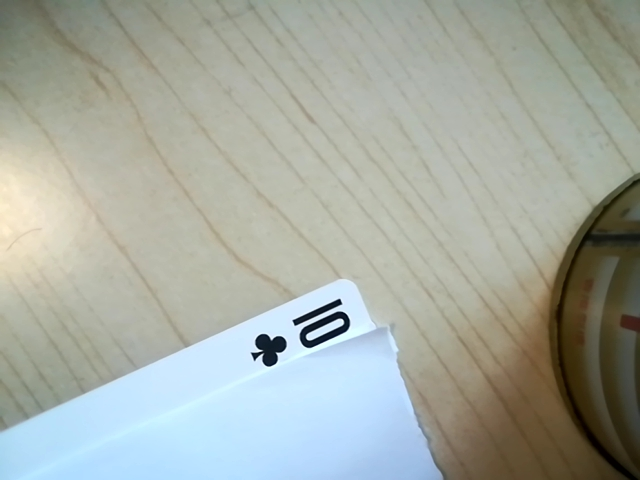mh 10: (240, 295, 365, 369)
